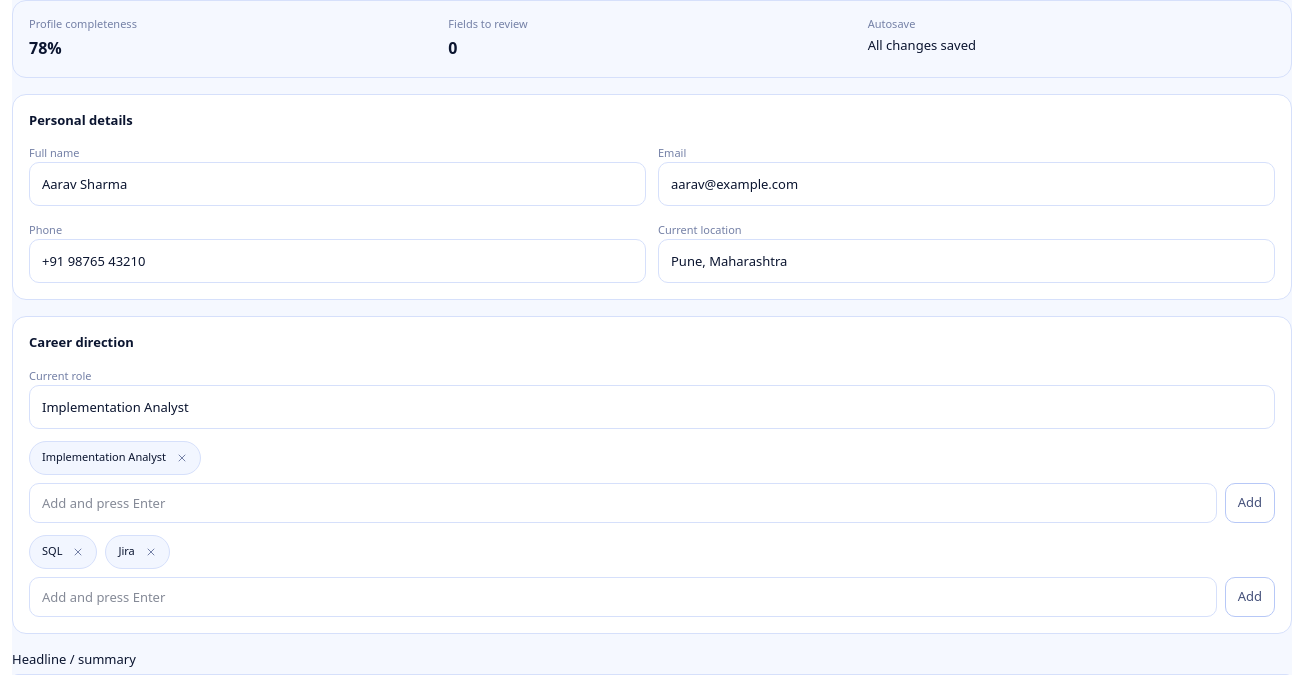
StructuredResumeEditor › autosaves structured changes and reports saved state
Step 1. Replace the text in the field labelled "Full name" with "Aarav S. Sharma" → (338, 184), box [29,162,646,206]
Wait 1600 ms
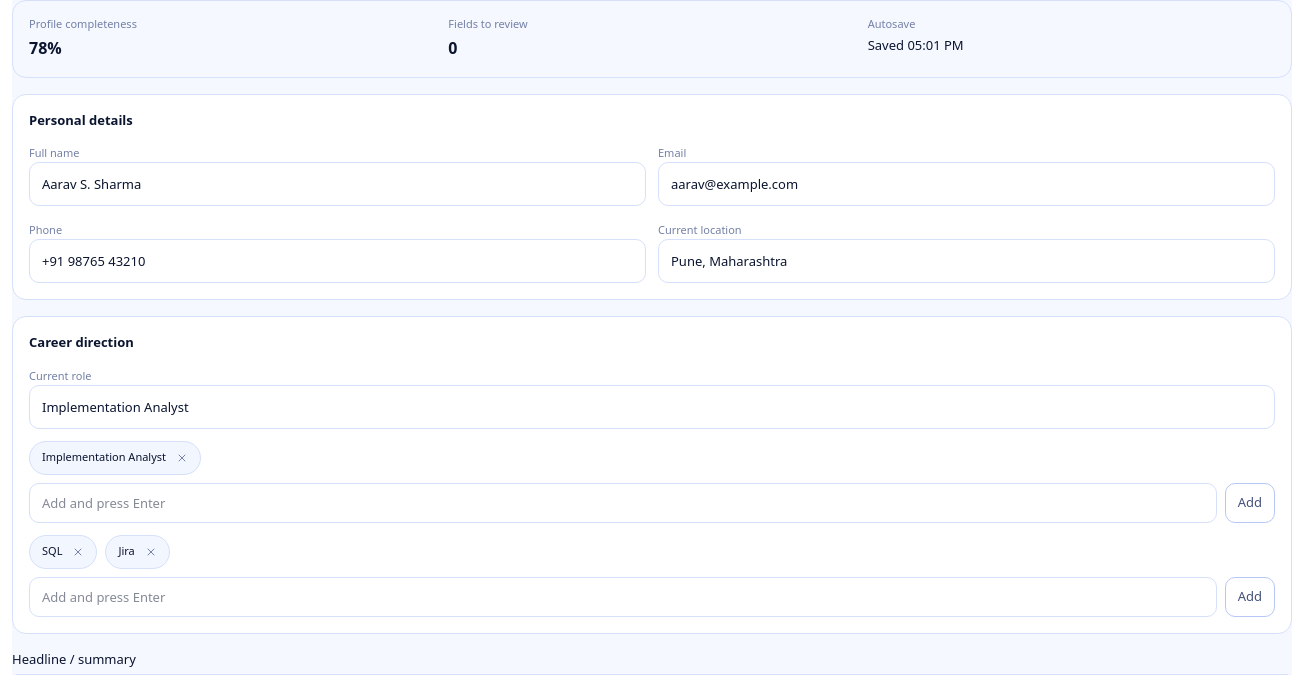
Expected: the text "Saved 05:01 PM" is shown, [868,36,964,54]
